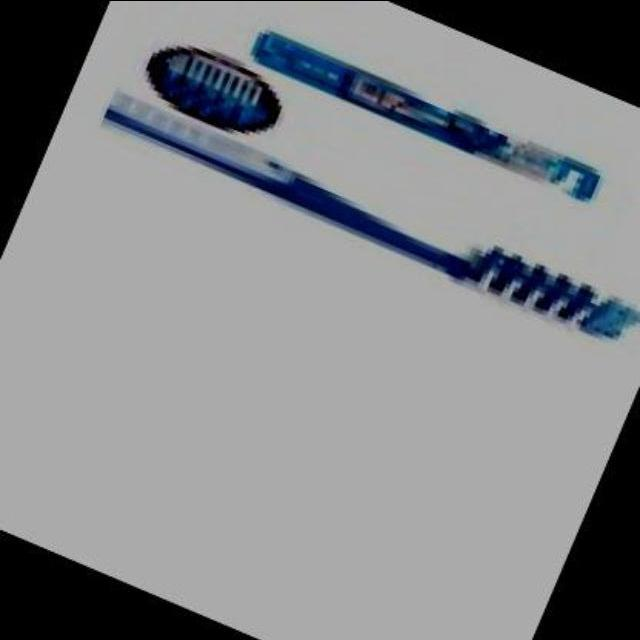toothbrush: (52, 45, 638, 388)
